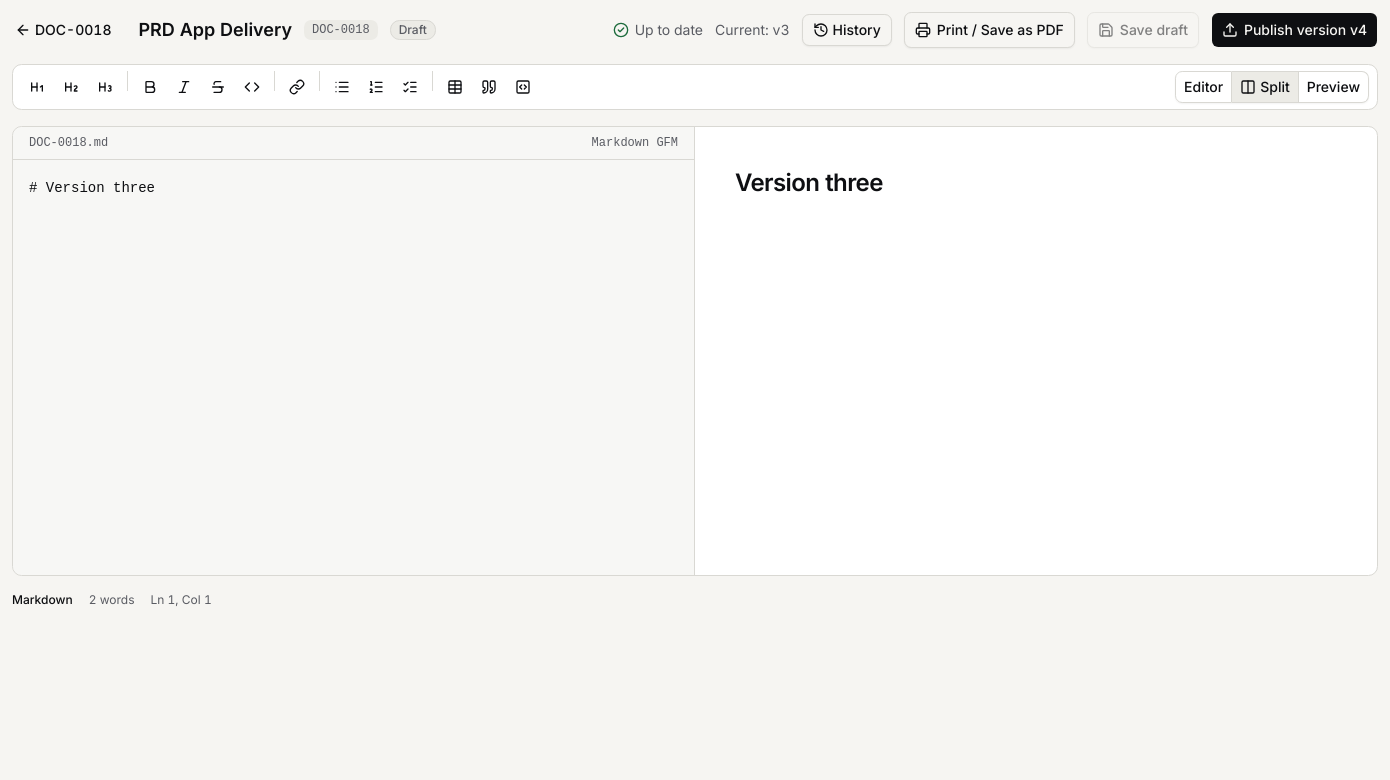
Test: DocumentEditor save › locks the editor when the server reports the document signed
The width and height of the screenshot is (1390, 780).
Replace the text in the text box named "Markdown source" with "# Changed" at (354, 368), box [13,160,694,575]
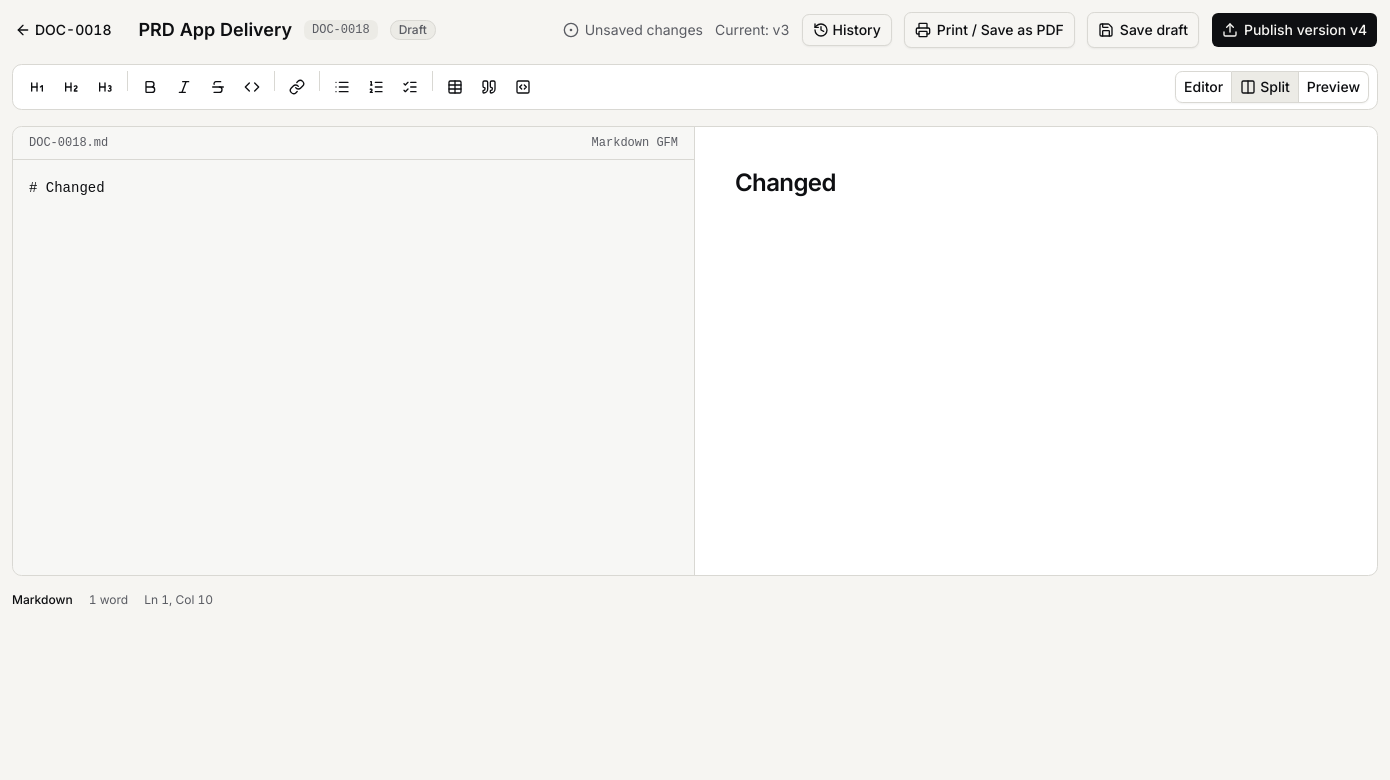
Click the button "Save draft" at (1143, 30), box [1087,12,1199,48]
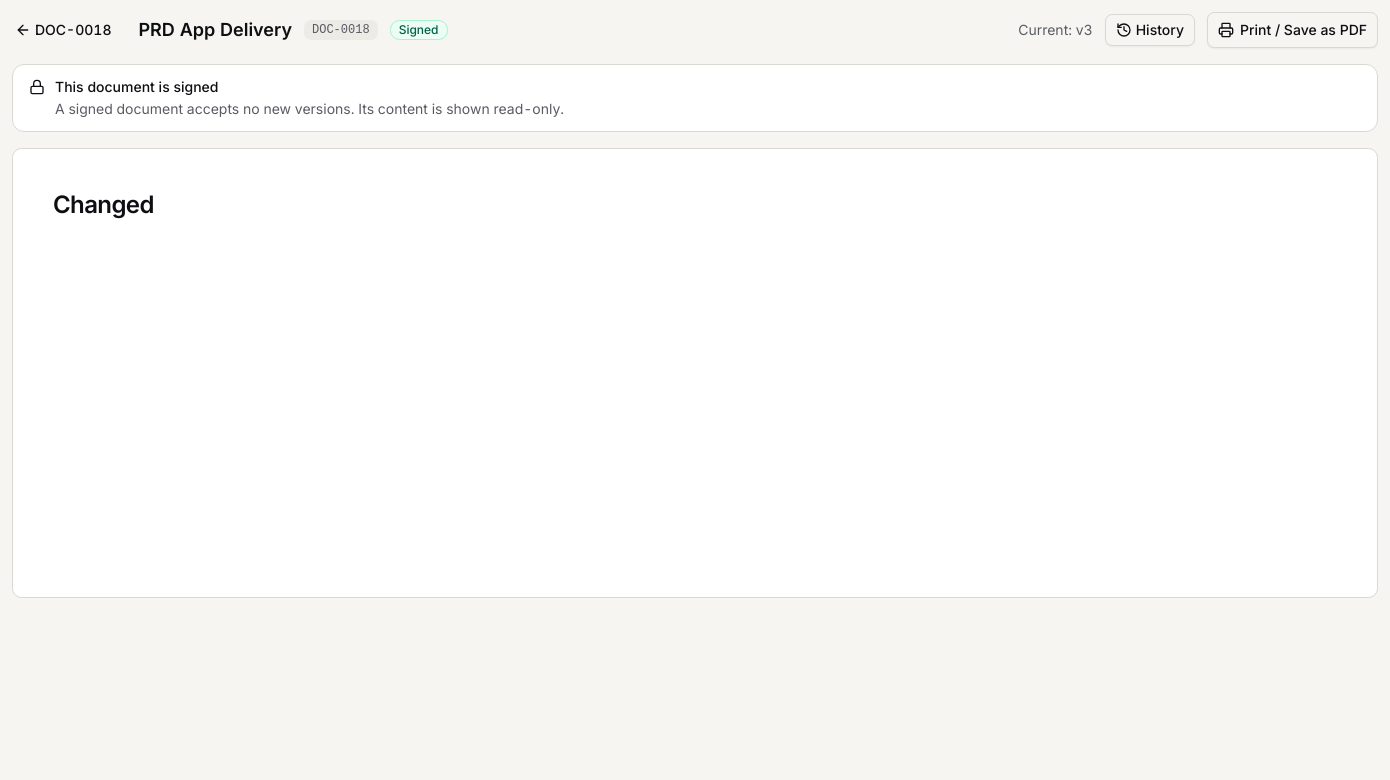
Expected: the button "Save draft" is gone
